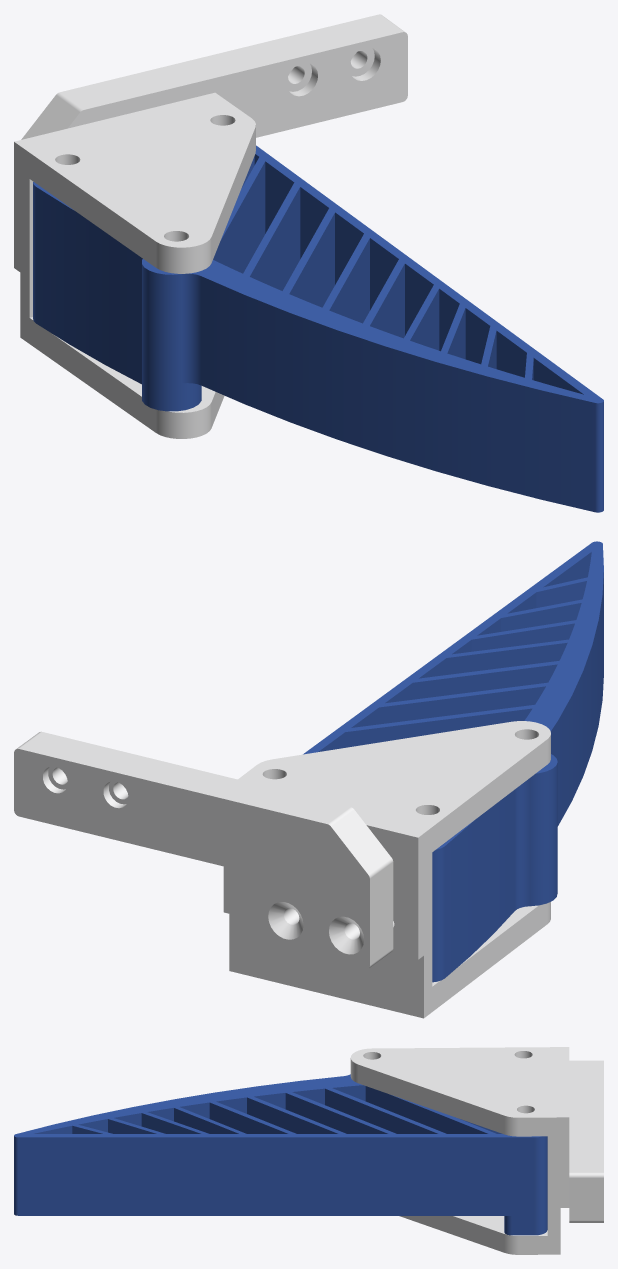
Rendered from right_finger.dae.
3 views of the same model, one above another, from view 1: azimuth 30°, elevation 25°; view 2: azimuth 150°, elevation 25°; view 3: azimuth 270°, elevation 25° (orthographic). The views are drawn at different scales.
Visible parts, largest first — view 1: Body1 (×3); view 2: Body1 (×3); view 3: Body1 (×3).
Boxes of the visible parts, x1=… form: Body1 (×3): x1=14, y1=14, x2=603, y2=512; Body1 (×3): x1=14, y1=541, x2=603, y2=1018; Body1 (×3): x1=14, y1=1047, x2=603, y2=1254.
Size of the model in its own units: 0.0762 by 0.1364 by 0.0377.
